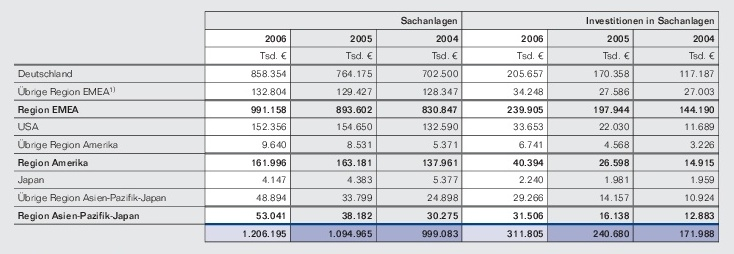table: (0, 0, 734, 254)
